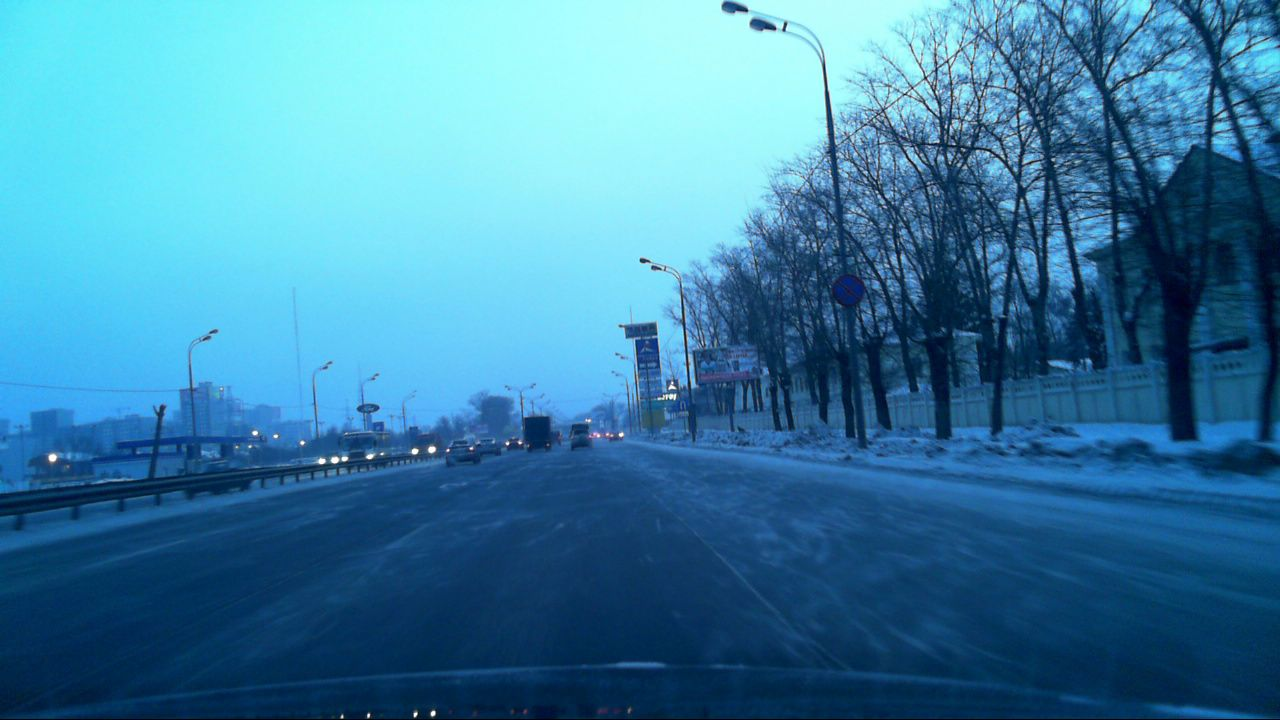No Parking: (832, 274, 864, 305)
